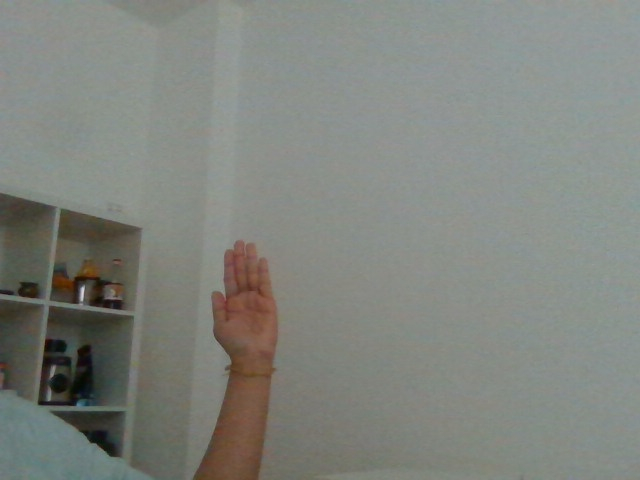open_hand: (199, 238, 299, 382)
